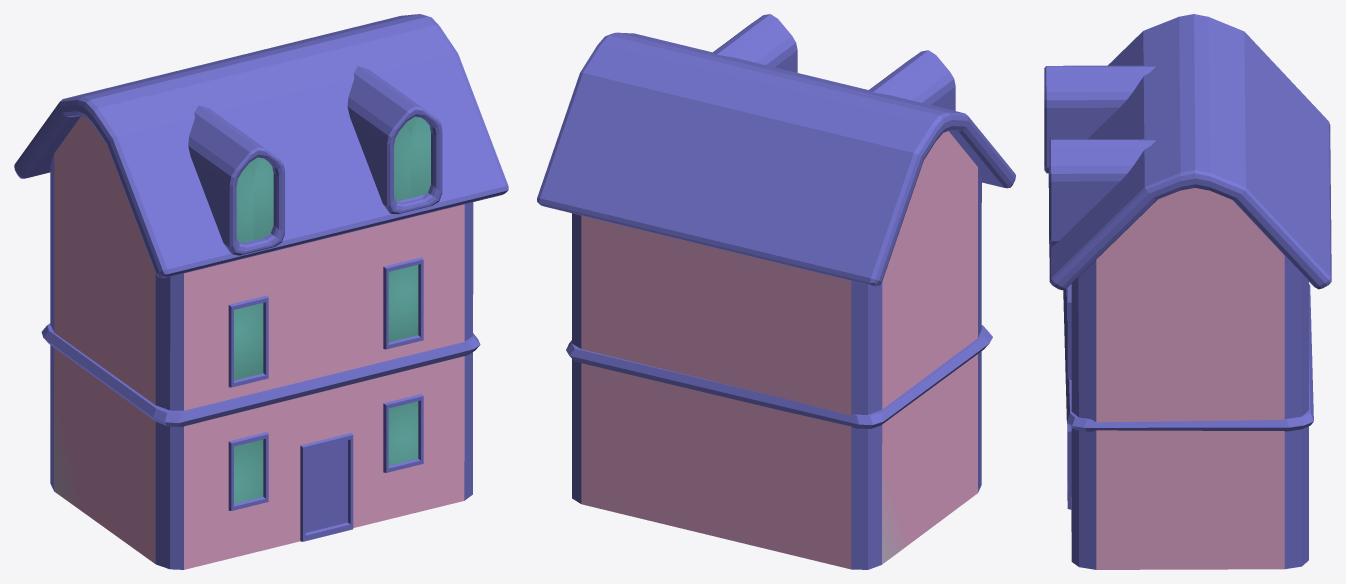
The model's file is SM_House_21.fbx.
3 views of the same model, side by side, from view 1: azimuth 30°, elevation 25°; view 2: azimuth 150°, elevation 25°; view 3: azimuth 270°, elevation 25° (orthographic). The views are drawn at different scales.
Parts seen in each view (by area): view 1: SM_House_21; view 2: SM_House_21; view 3: SM_House_21.
Part boxes in pixels (x1,y1,x2,y2): SM_House_21: [14, 14, 508, 569]; SM_House_21: [537, 14, 1015, 569]; SM_House_21: [1044, 14, 1331, 569].
Size of the model in its own units: 762 by 888 by 571.
